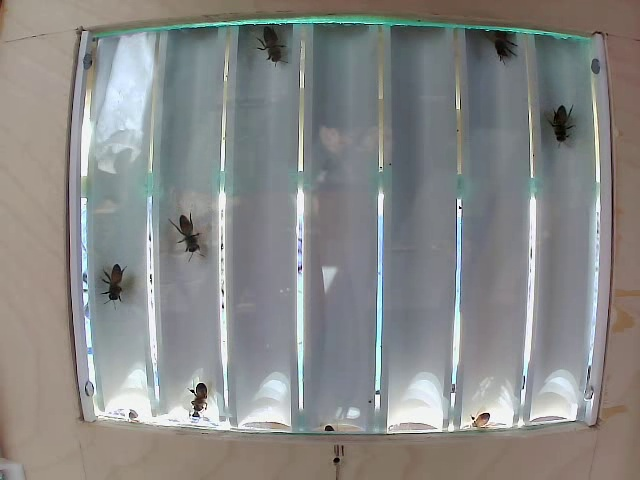bee: (243, 13, 298, 70), (537, 100, 584, 158), (165, 208, 219, 256), (89, 256, 137, 310), (480, 16, 512, 76)
